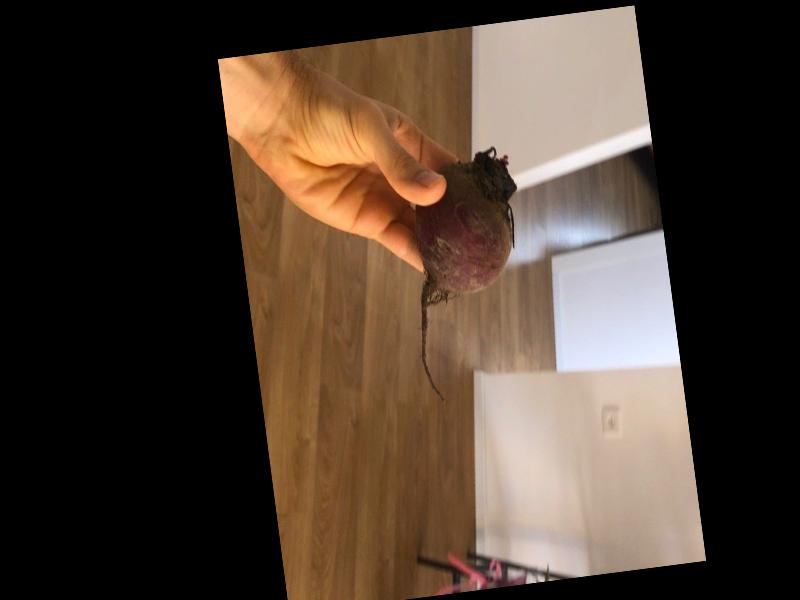Beet: (397, 147, 541, 404)
